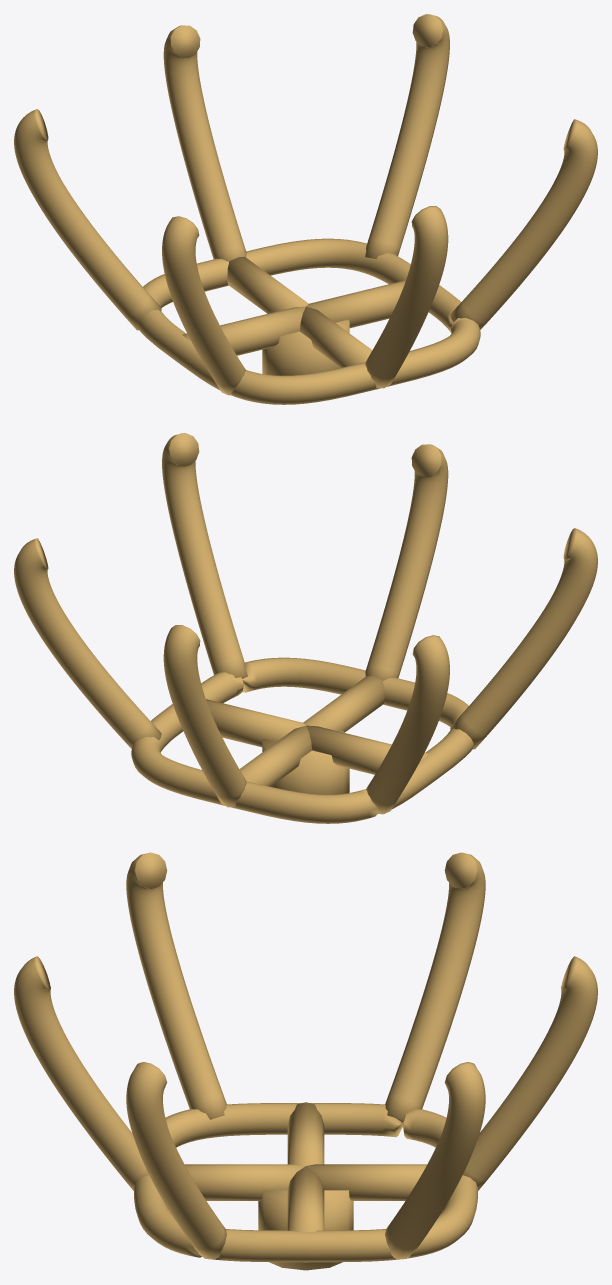
File: stuller-lg-500061581-6-prong.glb
3 renders of one model, top to bottom at view 1: azimuth 30°, elevation 25°; view 2: azimuth 150°, elevation 25°; view 3: azimuth 270°, elevation 25°, orthographic. The views are drawn at different scales.
Visible parts, largest first — view 1: Metal.143, Metal.148, Metal.149, Metal.150, Metal.153, Metal.152, Metal.151, Metal.144, Metal.146, Metal.142, Metal.145, Metal.147; view 2: Metal.143, Metal.153, Metal.152, Metal.151, Metal.148, Metal.149, Metal.150, Metal.144, Metal.146, Metal.142, Metal.147, Metal.145; view 3: Metal.143, Metal.150, Metal.151, Metal.149, Metal.152, Metal.153, Metal.148, Metal.145, Metal.147, Metal.142, Metal.144, Metal.146.
Part boxes in pixels (x1=…): Metal.143: x1=138, y1=238, x2=480, y2=404; Metal.148: x1=365, y1=14, x2=449, y2=258; Metal.149: x1=163, y1=25, x2=246, y2=261; Metal.150: x1=14, y1=109, x2=161, y2=330; Metal.153: x1=450, y1=119, x2=597, y2=329; Metal.152: x1=365, y1=206, x2=448, y2=388; Metal.151: x1=162, y1=216, x2=245, y2=395; Metal.144: x1=306, y1=280, x2=405, y2=328; Metal.146: x1=182, y1=306, x2=305, y2=355; Metal.142: x1=262, y1=311, x2=349, y2=375; Metal.145: x1=227, y1=257, x2=308, y2=313; Metal.147: x1=300, y1=306, x2=372, y2=367; Metal.143: x1=131, y1=657, x2=473, y2=823; Metal.153: x1=162, y1=433, x2=247, y2=678; Metal.152: x1=365, y1=444, x2=448, y2=680; Metal.151: x1=450, y1=528, x2=597, y2=749; Metal.148: x1=14, y1=538, x2=161, y2=748; Metal.149: x1=163, y1=625, x2=246, y2=807; Metal.150: x1=366, y1=635, x2=449, y2=814; Metal.144: x1=206, y1=699, x2=305, y2=747; Metal.146: x1=306, y1=725, x2=429, y2=774; Metal.142: x1=262, y1=730, x2=349, y2=794; Metal.147: x1=303, y1=676, x2=384, y2=732; Metal.145: x1=239, y1=725, x2=311, y2=786; Metal.143: x1=134, y1=1103, x2=477, y2=1262; Metal.150: x1=385, y1=852, x2=485, y2=1122; Metal.151: x1=126, y1=852, x2=226, y2=1119; Metal.149: x1=463, y1=956, x2=597, y2=1190; Metal.152: x1=14, y1=956, x2=148, y2=1190; Metal.153: x1=126, y1=1062, x2=226, y2=1259; Metal.148: x1=385, y1=1062, x2=485, y2=1259; Metal.145: x1=306, y1=1164, x2=427, y2=1200; Metal.147: x1=184, y1=1164, x2=305, y2=1200; Metal.142: x1=258, y1=1190, x2=353, y2=1270; Metal.144: x1=287, y1=1166, x2=324, y2=1262; Metal.146: x1=287, y1=1102, x2=324, y2=1165.
Bounding box in the file's own units: 6.83 × 4.05 × 7.34.
